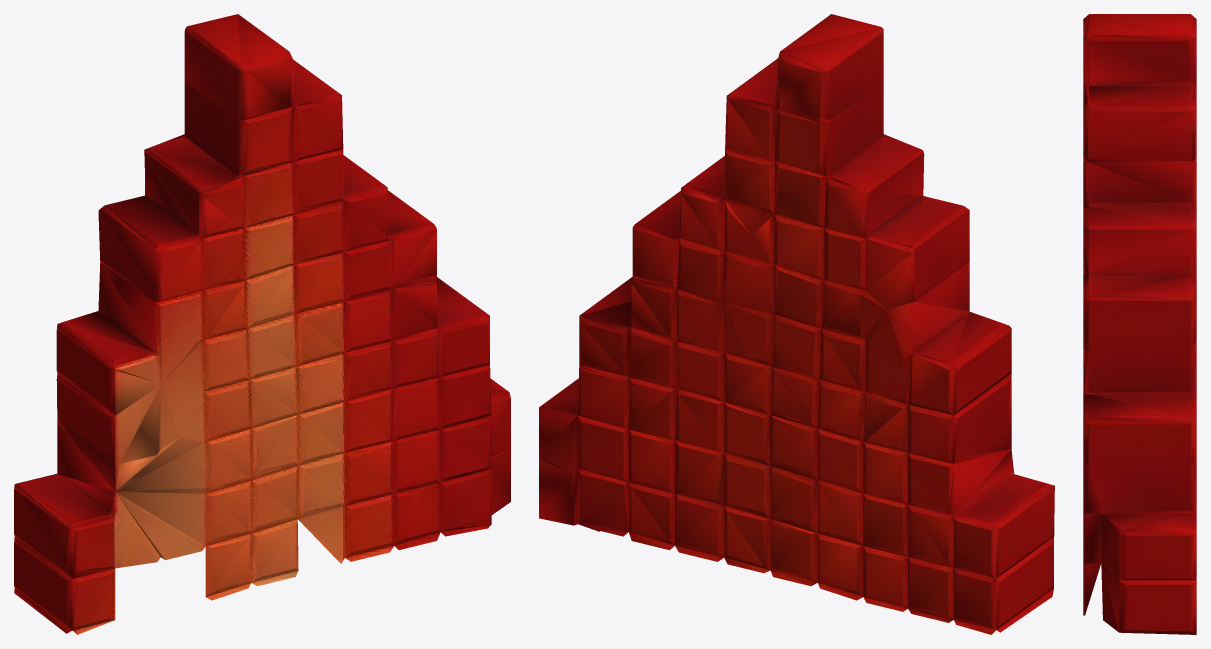
Rendered from red-fire.glb.
The picture shows the model from 3 angles, left to right: view 1: azimuth 30°, elevation 25°; view 2: azimuth 150°, elevation 25°; view 3: azimuth 270°, elevation 25°; orthographic projection. The views are drawn at different scales.
Visible parts, largest first — view 1: material; view 2: material; view 3: material.
Boxes of the visible parts, x1=… form: material: x1=14, y1=14, x2=510, y2=634; material: x1=539, y1=14, x2=1054, y2=634; material: x1=1083, y1=14, x2=1196, y2=634.
Size of the model in its own units: 1.2 by 1.32 by 0.2714.
1 material, 1 textured.
